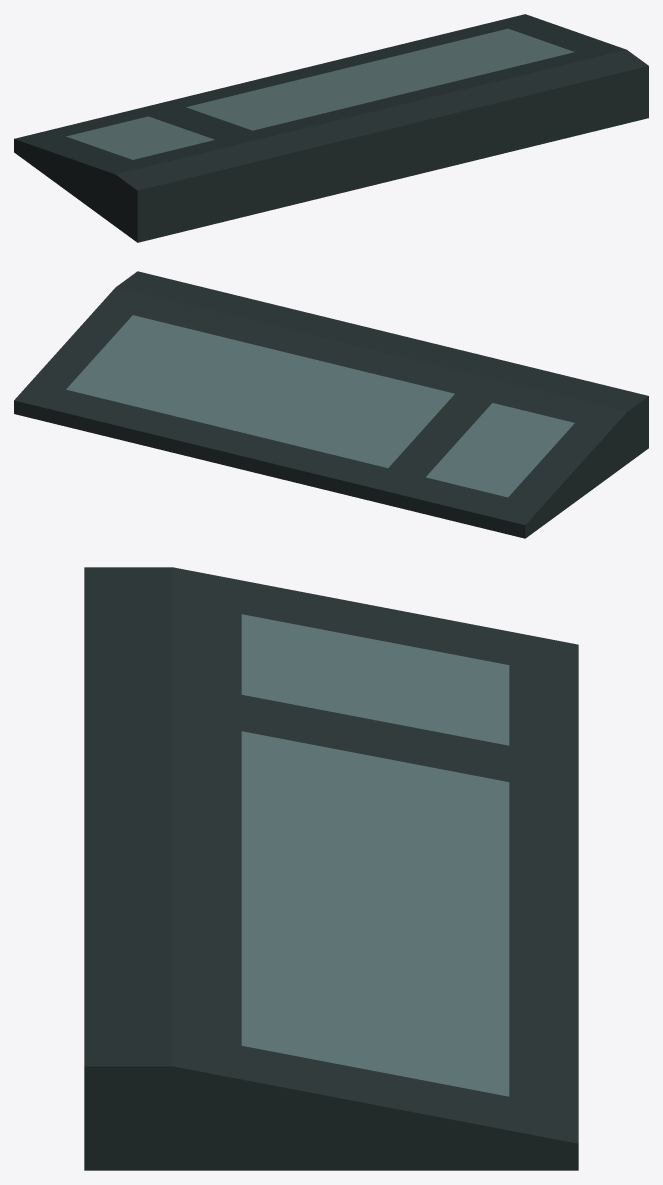
File: computerKeyboard.glb
The picture shows the model from 3 angles, top to bottom: view 1: azimuth 30°, elevation 25°; view 2: azimuth 150°, elevation 25°; view 3: azimuth 270°, elevation 25°; orthographic projection. The views are drawn at different scales.
Size of the model in its own units: 2.82 by 0.2756 by 1.18.
